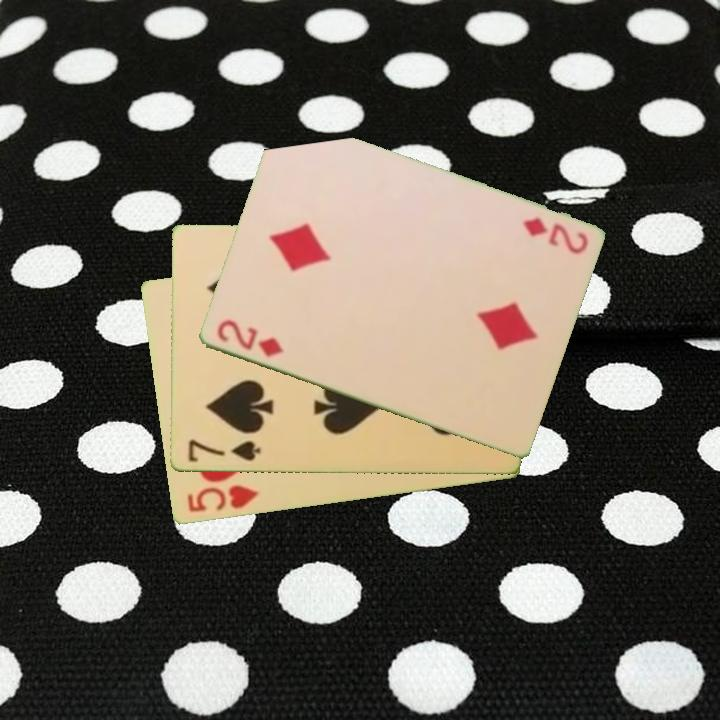2d: (213, 316, 287, 360), (518, 214, 591, 257)
5h: (183, 482, 261, 516)
7s: (184, 437, 263, 466)
